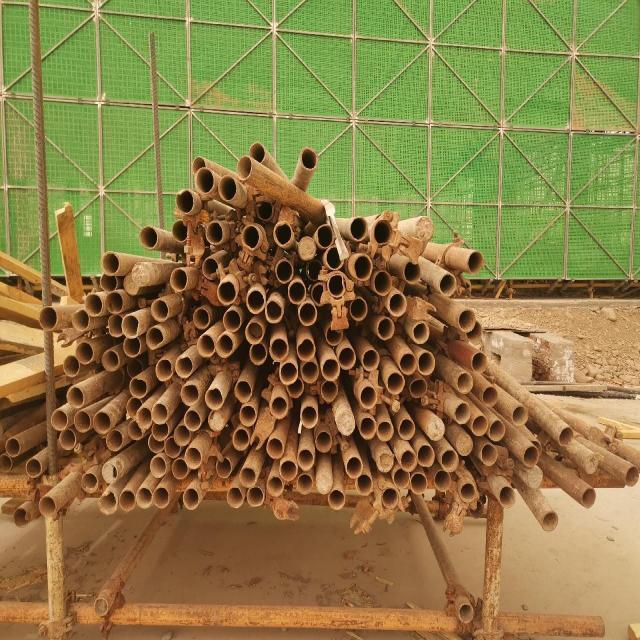pipe: (272, 220, 294, 248), (352, 252, 372, 282), (194, 167, 216, 194), (217, 174, 237, 202), (239, 222, 259, 250), (373, 216, 391, 246), (234, 153, 253, 181), (96, 488, 116, 514), (120, 312, 140, 338), (298, 144, 318, 170), (216, 280, 236, 306), (245, 288, 265, 314), (274, 258, 294, 284), (335, 410, 355, 436), (404, 258, 422, 286), (149, 298, 169, 323), (195, 333, 215, 358), (264, 298, 284, 323), (268, 336, 288, 361), (323, 244, 343, 269), (379, 486, 399, 511), (175, 188, 194, 214), (222, 307, 241, 333), (205, 220, 224, 246), (100, 251, 120, 275), (74, 340, 94, 364), (144, 326, 164, 350), (173, 354, 193, 378), (180, 382, 200, 406), (244, 320, 264, 344), (348, 216, 368, 240), (360, 348, 380, 372), (410, 320, 430, 344), (413, 216, 433, 240), (298, 234, 315, 262), (388, 291, 407, 316), (38, 305, 56, 331), (132, 262, 150, 288), (170, 266, 188, 292), (232, 426, 250, 452), (298, 300, 316, 326), (300, 358, 318, 384), (315, 222, 333, 248), (358, 414, 376, 440), (466, 248, 484, 274), (457, 600, 475, 626), (100, 349, 120, 372), (182, 408, 202, 431), (278, 360, 298, 383), (269, 395, 289, 418), (440, 448, 460, 471), (432, 469, 452, 492), (540, 509, 560, 532), (83, 292, 102, 316), (139, 225, 158, 249), (398, 448, 417, 472), (73, 409, 91, 434), (215, 333, 233, 358), (349, 296, 367, 321), (300, 404, 318, 429), (458, 308, 476, 333), (417, 351, 435, 376), (171, 218, 188, 244), (48, 408, 68, 430), (254, 198, 274, 220), (206, 408, 226, 430), (248, 342, 268, 364), (232, 380, 252, 402), (296, 338, 316, 360), (358, 386, 378, 408), (454, 432, 474, 454), (408, 472, 428, 494), (105, 428, 124, 451), (38, 494, 56, 518), (61, 352, 79, 376), (92, 410, 110, 434), (122, 334, 140, 358), (183, 446, 201, 470), (201, 256, 219, 280), (214, 454, 232, 478), (288, 280, 306, 304), (324, 322, 342, 346), (376, 316, 394, 340), (266, 436, 284, 460), (438, 272, 456, 296), (464, 318, 482, 342), (398, 352, 416, 376), (386, 372, 404, 396), (426, 416, 444, 440), (453, 400, 471, 424), (556, 424, 574, 448), (497, 484, 515, 508), (92, 594, 110, 618), (190, 307, 210, 328), (65, 386, 84, 408), (320, 358, 339, 380), (72, 306, 88, 332), (182, 484, 198, 510), (106, 314, 124, 337), (100, 460, 118, 483), (148, 455, 166, 478), (155, 358, 173, 381), (204, 386, 222, 409), (238, 465, 256, 488), (246, 485, 264, 508), (314, 429, 332, 452), (314, 470, 332, 493), (480, 384, 498, 407), (524, 465, 542, 488), (305, 256, 322, 280), (374, 270, 391, 294), (338, 346, 355, 370), (376, 418, 393, 442), (479, 442, 496, 466), (128, 377, 148, 397), (126, 416, 142, 441), (278, 460, 298, 480), (326, 490, 346, 510), (471, 350, 487, 375), (58, 426, 76, 448), (80, 471, 98, 493), (118, 488, 136, 510), (248, 141, 266, 163), (238, 404, 256, 426), (296, 448, 314, 470), (296, 472, 314, 494), (320, 380, 338, 402), (344, 456, 362, 478), (397, 416, 415, 438), (470, 414, 488, 436), (582, 452, 600, 474), (122, 272, 139, 295), (173, 424, 190, 447), (488, 418, 505, 441), (226, 484, 242, 508), (522, 444, 538, 468), (624, 464, 640, 488), (354, 473, 372, 494), (154, 485, 169, 510), (377, 447, 392, 472), (151, 402, 168, 424), (163, 436, 180, 458), (511, 404, 528, 426), (106, 290, 122, 313), (136, 406, 152, 429), (124, 397, 142, 417), (146, 432, 164, 452), (286, 377, 304, 397), (408, 377, 426, 397), (458, 482, 476, 502), (12, 506, 28, 528), (136, 486, 152, 508), (172, 458, 188, 480), (266, 474, 282, 496), (456, 371, 472, 393), (580, 486, 596, 508), (98, 274, 116, 292), (25, 457, 41, 477), (125, 356, 141, 376), (151, 422, 169, 439), (190, 155, 206, 174), (528, 438, 541, 461), (6, 436, 20, 456), (0, 453, 11, 473)
